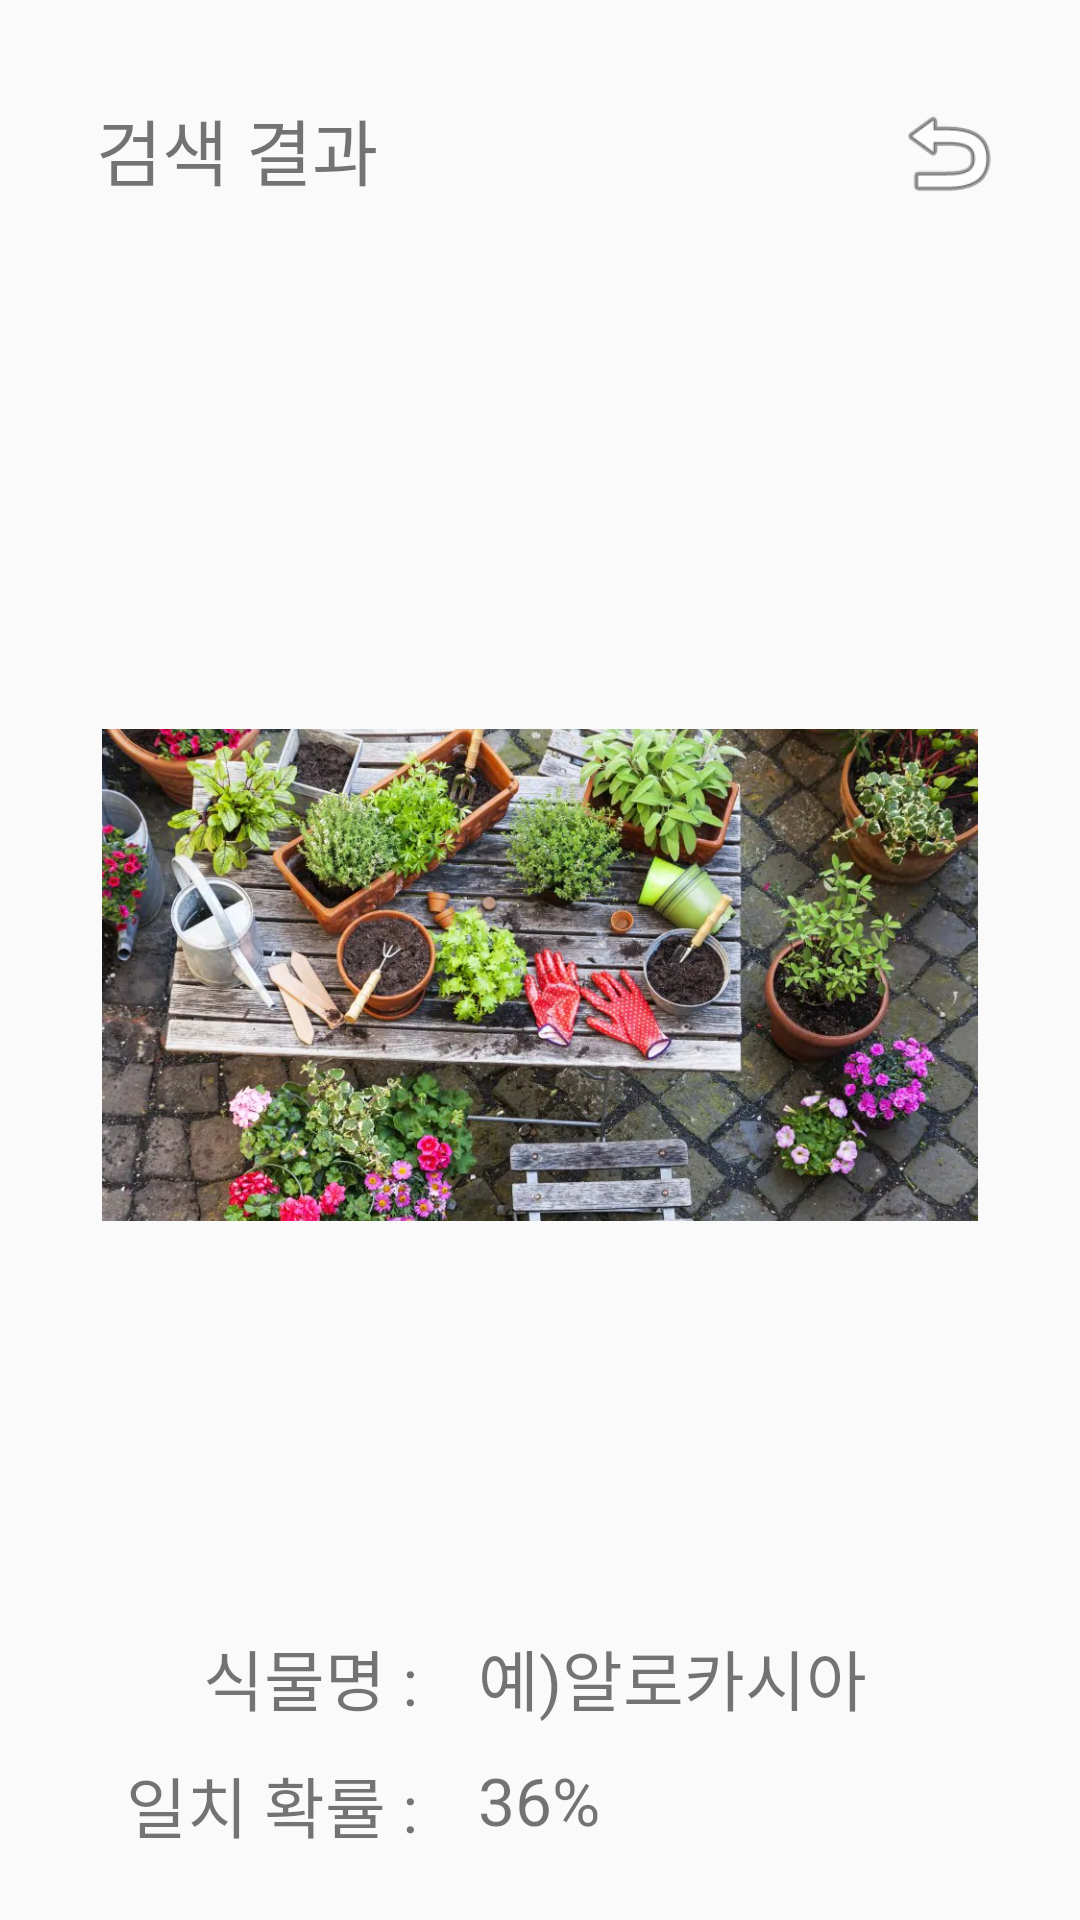

Point at icon controls on the screen. Image size 1080×1920, points as point (x, y).
revert: point (949, 154)
